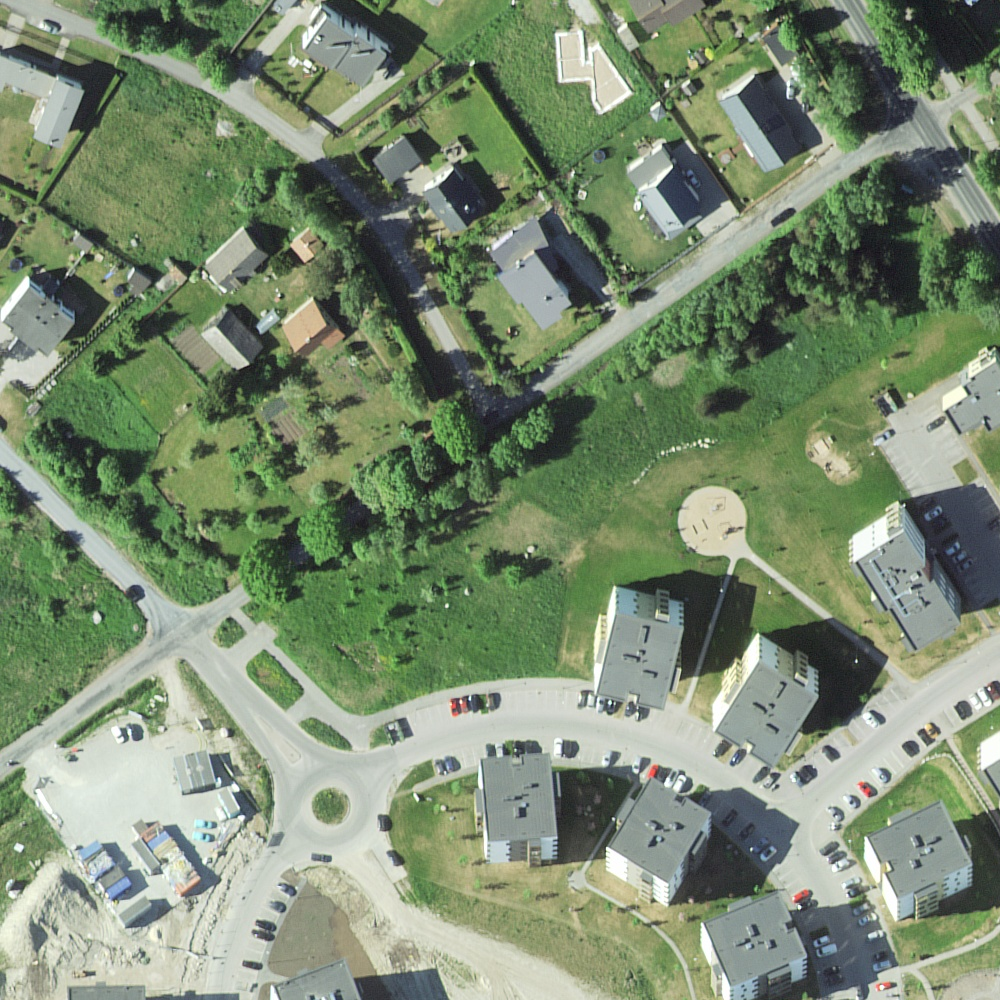building: (854, 531, 961, 652), (714, 659, 819, 770), (864, 797, 974, 901), (608, 775, 713, 883), (701, 893, 806, 987), (487, 216, 572, 332), (596, 610, 682, 710), (719, 76, 799, 173), (1, 57, 84, 149), (479, 751, 559, 842), (629, 147, 703, 234), (305, 17, 387, 89), (2, 286, 76, 356), (942, 360, 1000, 438), (208, 227, 270, 292), (421, 167, 483, 231), (271, 958, 363, 1000), (202, 310, 265, 370), (282, 301, 345, 357), (629, 1, 707, 34), (374, 137, 421, 185), (174, 749, 217, 791), (290, 227, 324, 263), (68, 985, 146, 1000), (980, 757, 1000, 806), (128, 269, 153, 297), (217, 786, 241, 814), (74, 234, 94, 255)
